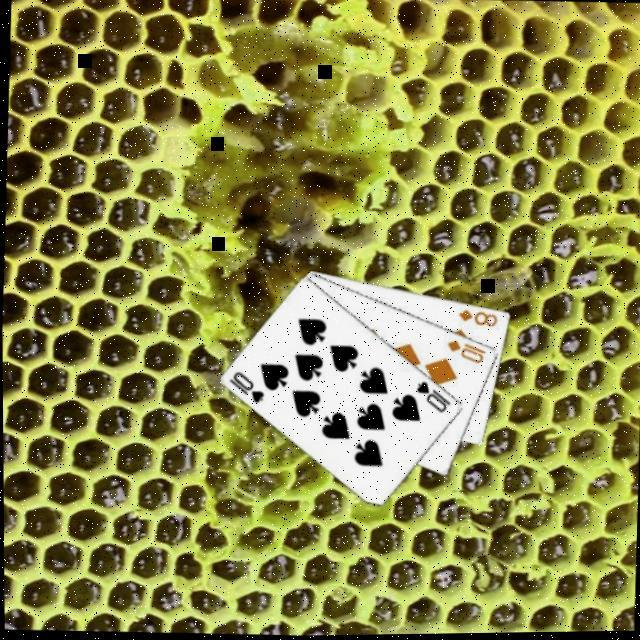10D: (442, 338, 487, 369)
10S: (224, 369, 267, 407), (411, 379, 452, 418)
8D: (453, 307, 499, 333)
